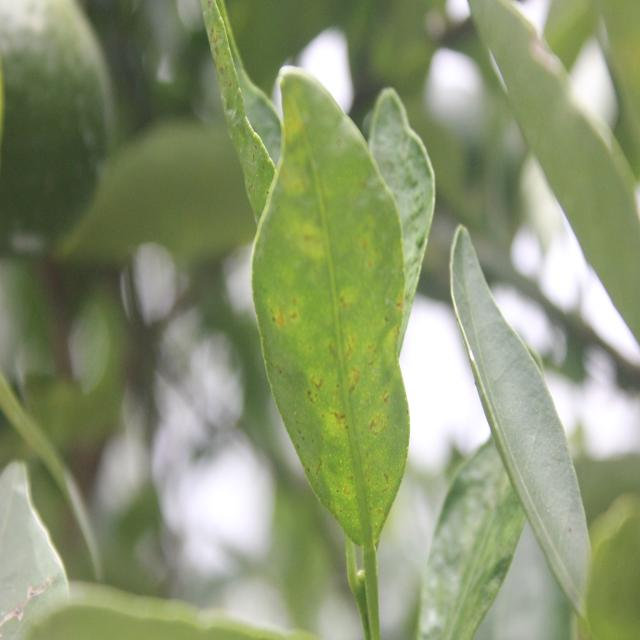canker: (278, 148, 402, 524), (210, 0, 272, 220)
